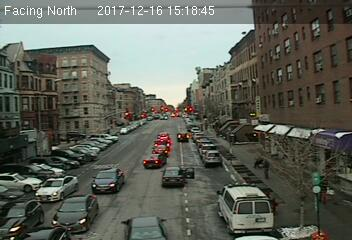car: (1, 196, 43, 239), (53, 194, 97, 231), (91, 168, 124, 191), (160, 167, 189, 185), (201, 151, 221, 166), (144, 153, 165, 167), (177, 132, 191, 141)
police: (216, 182, 276, 234), (34, 172, 79, 203)
